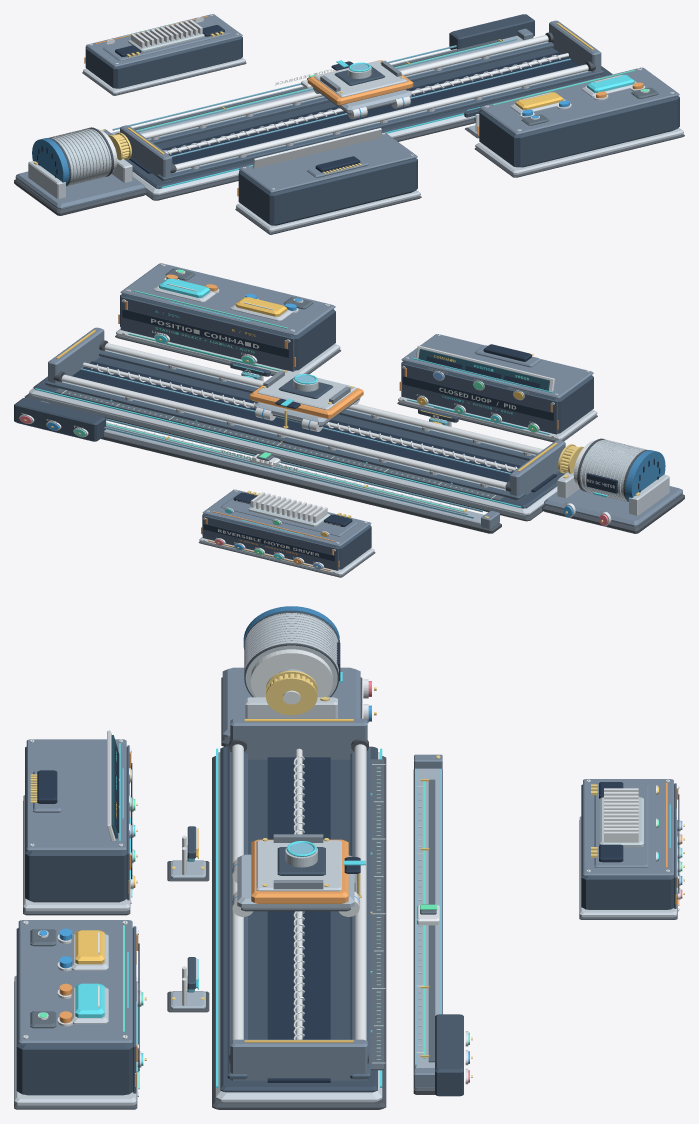
File: Level43_Fitted_Assembly.fbx
3 renders of one model, top to bottom at view 1: azimuth 30°, elevation 25°; view 2: azimuth 150°, elevation 25°; view 3: azimuth 270°, elevation 25°, orthographic. The views are drawn at different scales.
Parts seen in each view (by area): view 1: L43_Rail_Static__chrome, L43_Command_Static__graphite, L43_Controller_Static__graphite, L43_Rail_Static__void, L43_Rail_Static__deep_steel, L43_Command_Static__mid_steel, L43_Rail_Static__graphite, L43_Controller_Static__mid_steel, L43_Driver_Static__graphite, L43_Rail_Static__mid_steel, L43_Motor_Static__titanium, L43_Driver_Static__mid_steel (+34 smaller); view 2: L43_Rail_Static__chrome, L43_Rail_Static__void, L43_Rail_Static__deep_steel, L43_Command_Static__mid_steel, L43_Command_Static__deep_steel, L43_Rail_Static__titanium, L43_Sensor_Static__steel, L43_Controller_Static__deep_steel, L43_Controller_Static__mid_steel, L43_Rail_Static__graphite, L43_Rail_Static__mid_steel, L43_Rail_Static__rubber (+40 smaller); view 3: L43_Rail_Static__graphite, L43_Rail_Static__void, L43_Rail_Static__mid_steel, L43_Command_Static__mid_steel, L43_Controller_Static__mid_steel, L43_Rail_Static__chrome, L43_Command_Static__graphite, L43_Controller_Static__graphite, L43_Driver_Static__mid_steel, L43_Rail_Static__deep_steel, L43_Sensor_Static__steel, L43_Rail_Static__polymer (+32 smaller).
Part boxes in pixels (left/top/right/bottom): L43_Rail_Static__chrome: left=141, top=35, right=588, bottom=171; L43_Command_Static__graphite: left=479, top=96, right=679, bottom=167; L43_Controller_Static__graphite: left=238, top=158, right=417, bottom=225; L43_Rail_Static__void: left=129, top=52, right=578, bottom=173; L43_Rail_Static__deep_steel: left=149, top=42, right=603, bottom=180; L43_Command_Static__mid_steel: left=479, top=67, right=679, bottom=134; L43_Rail_Static__graphite: left=125, top=47, right=612, bottom=188; L43_Controller_Static__mid_steel: left=239, top=132, right=417, bottom=192; L43_Driver_Static__graphite: left=85, top=36, right=242, bottom=88; L43_Rail_Static__mid_steel: left=120, top=20, right=601, bottom=181; L43_Motor_Static__titanium: left=28, top=128, right=132, bottom=198; L43_Driver_Static__mid_steel: left=86, top=14, right=242, bottom=66; L43_Rail_Static__chrome: left=61, top=343, right=543, bottom=489; L43_Rail_Static__void: left=72, top=361, right=556, bottom=492; L43_Rail_Static__deep_steel: left=45, top=351, right=533, bottom=500; L43_Command_Static__mid_steel: left=120, top=263, right=335, bottom=341; L43_Command_Static__deep_steel: left=120, top=296, right=294, bottom=371; L43_Rail_Static__titanium: left=29, top=365, right=557, bottom=515; L43_Sensor_Static__steel: left=104, top=422, right=488, bottom=529; L43_Controller_Static__deep_steel: left=401, top=363, right=557, bottom=434; L43_Controller_Static__mid_steel: left=401, top=334, right=593, bottom=437; L43_Rail_Static__graphite: left=33, top=356, right=565, bottom=508; L43_Rail_Static__mid_steel: left=48, top=327, right=565, bottom=500; L43_Rail_Static__rubber: left=24, top=340, right=544, bottom=521; L43_Rail_Static__graphite: left=220, top=746, right=377, bottom=1092; L43_Rail_Static__void: left=267, top=757, right=330, bottom=1082; L43_Rail_Static__mid_steel: left=230, top=718, right=367, bottom=1080; L43_Command_Static__mid_steel: left=18, top=920, right=132, bottom=1044; L43_Controller_Static__mid_steel: left=26, top=739, right=126, bottom=851; L43_Rail_Static__chrome: left=231, top=744, right=366, bottom=1040; L43_Command_Static__graphite: left=16, top=928, right=133, bottom=1095; L43_Controller_Static__graphite: left=25, top=747, right=127, bottom=902; L43_Driver_Static__mid_steel: left=583, top=779, right=679, bottom=909; L43_Rail_Static__deep_steel: left=227, top=746, right=370, bottom=1079; L43_Sensor_Static__steel: left=414, top=768, right=442, bottom=1087; L43_Rail_Static__polymer: left=370, top=759, right=383, bottom=1070.
Size of the model in its own units: 177 by 18.7 by 119.
